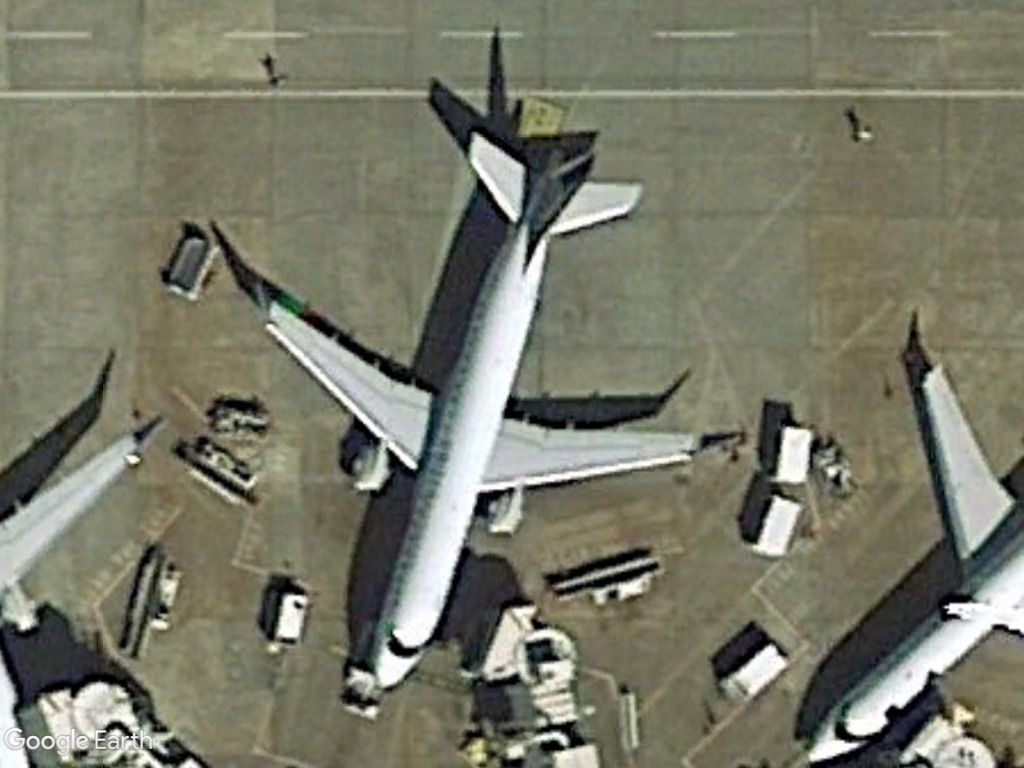airliner: (220, 122, 739, 694)
